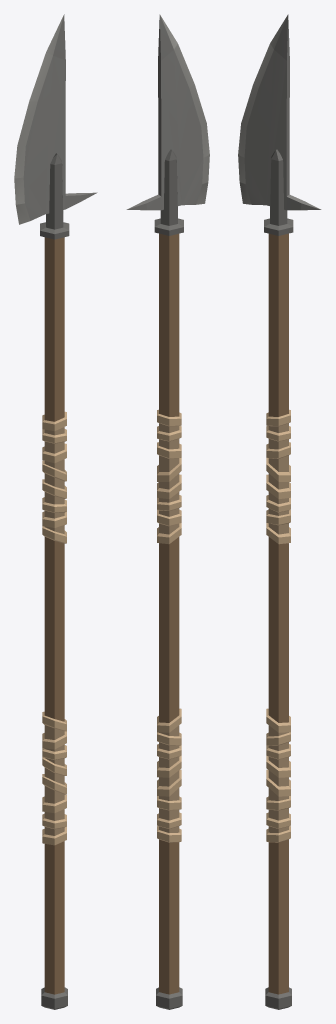
File: SM_pwe_medieval_halberd_05.fbx
The picture shows the model from 3 angles, left to right: view 1: azimuth 30°, elevation 25°; view 2: azimuth 210°, elevation 25°; view 3: azimuth 330°, elevation 25°; orthographic projection.
Parts seen in each view (by area): view 1: SM_pwe_medieval_halberd_05; view 2: SM_pwe_medieval_halberd_05; view 3: SM_pwe_medieval_halberd_05.
Part boxes in pixels (<box>): SM_pwe_medieval_halberd_05: <box>14,14,97,1009</box>; SM_pwe_medieval_halberd_05: <box>126,14,209,1009</box>; SM_pwe_medieval_halberd_05: <box>238,14,321,1009</box>.
Bounding box in the file's own units: 18.51 × 210 × 5.59.
